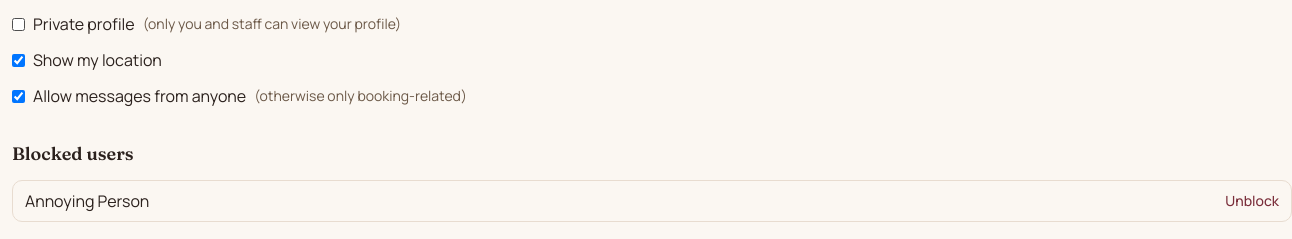
Test: PrivacySettingsForm › lists blocked users and removes one on unblock
Expected: the text "Annoying Person" is shown, top-left (25, 189), bottom-right (149, 213)
Click the button "Unblock": (1252, 201) top-left (1225, 191), bottom-right (1279, 211)
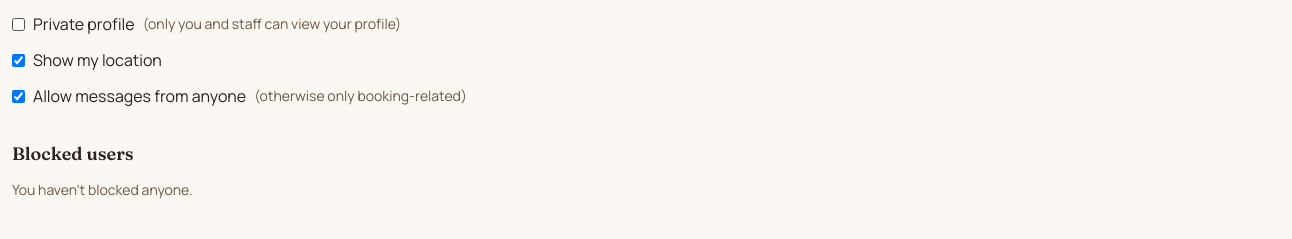
Expected: the text "You haven't blocked anyone." is shown, top-left (12, 180), bottom-right (192, 199)
